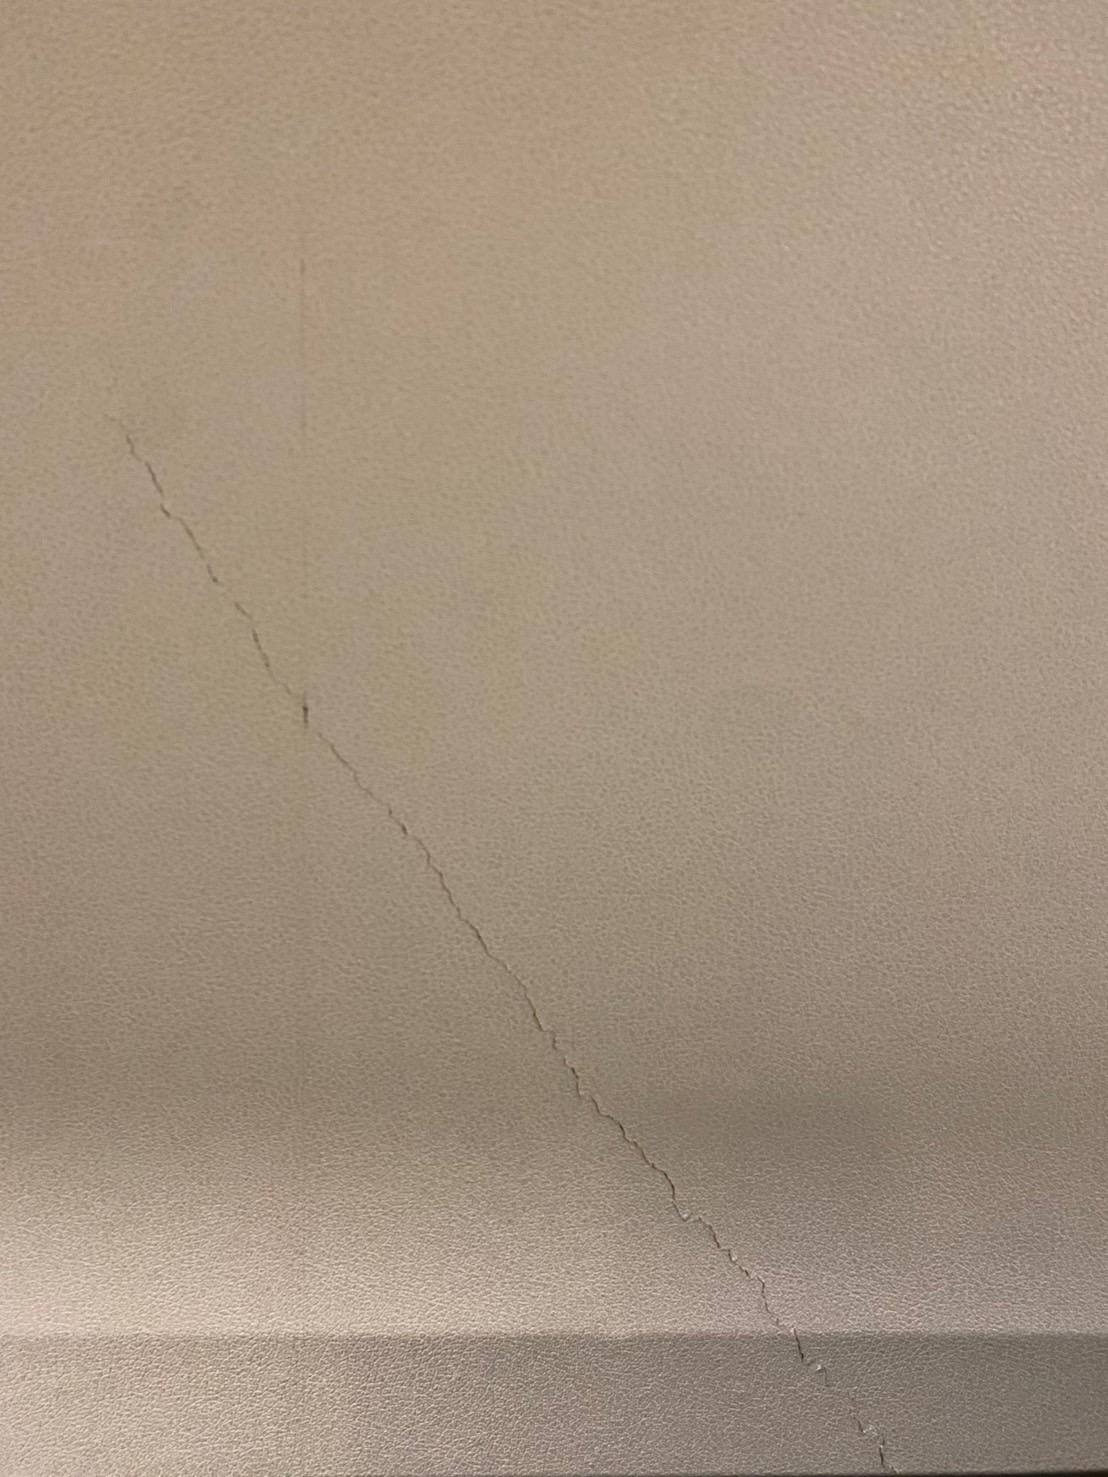Low: (77, 335, 972, 1477)
